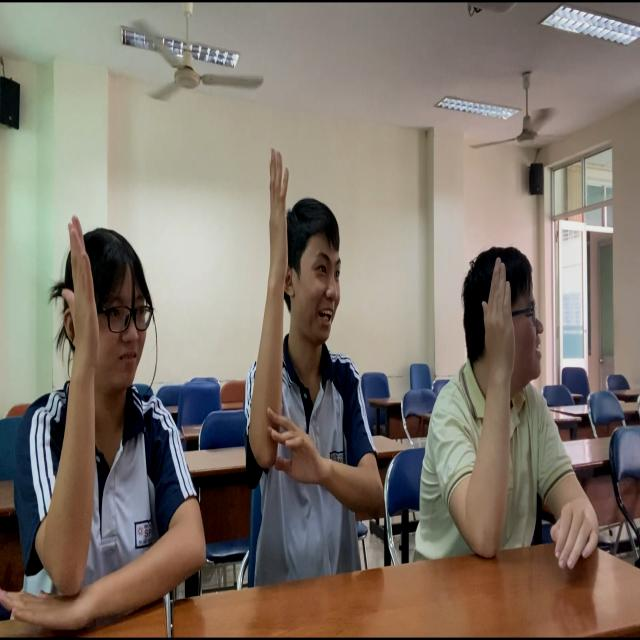raise_hand: (17, 216, 206, 640), (236, 142, 387, 584), (422, 245, 598, 577)
